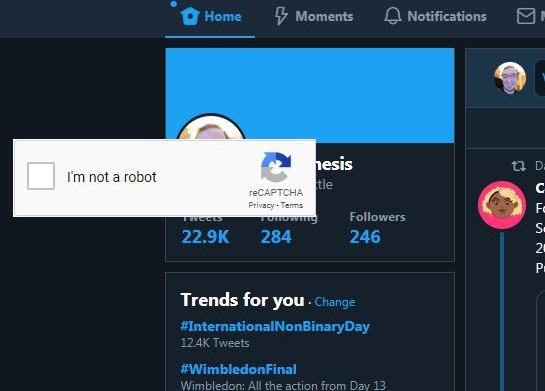captcha: (26, 161, 159, 191)
